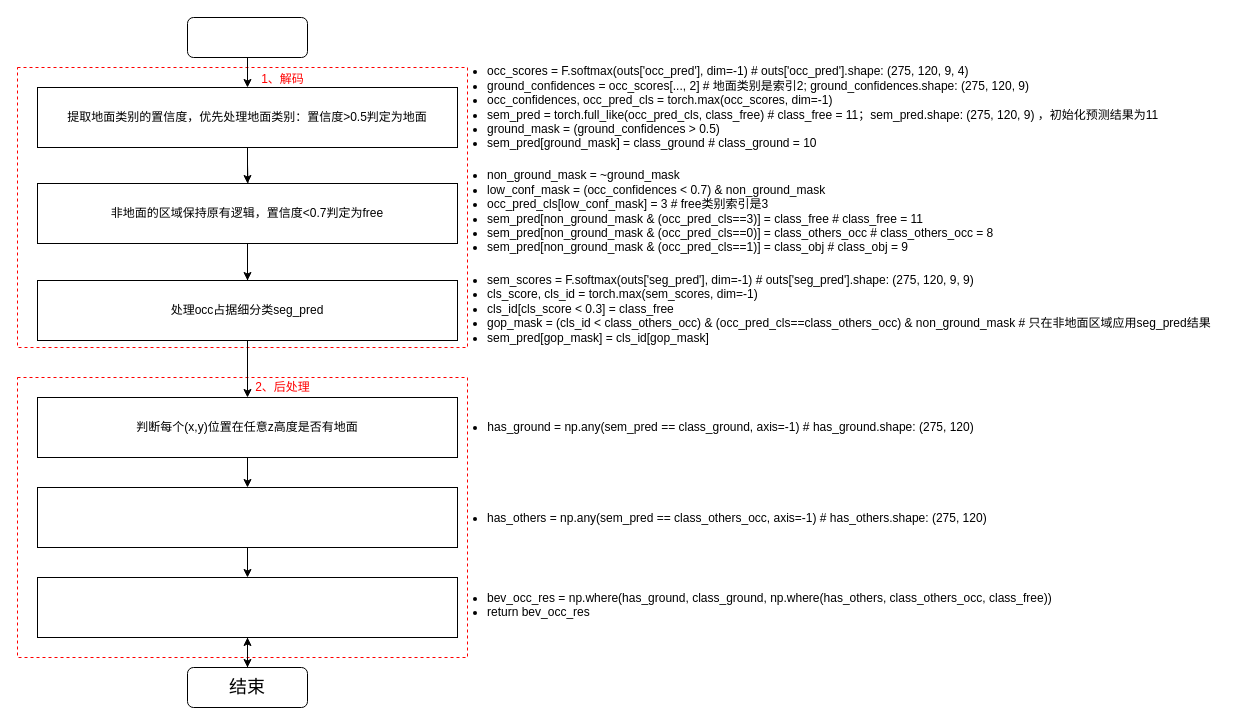
The diagram is 1253 pixels wide and 725 high, and some of its shapes have lost their labels. The centre of each missing label's shape, as x and y in pixels:
"OCC模型结果" belongs at (x=247, y=37).
"判断每个(x,y)位置在任意z高度是否有others（占据）" belongs at (x=247, y=517).
"构建结果：有地面则为地面类别，否则判断是否有others，有则为占据类别，否则为free类别" belongs at (x=247, y=607).
